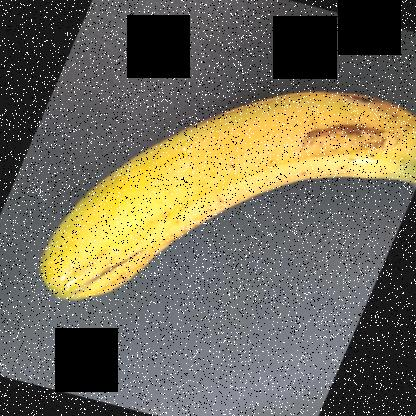ripe: (11, 80, 415, 304)
